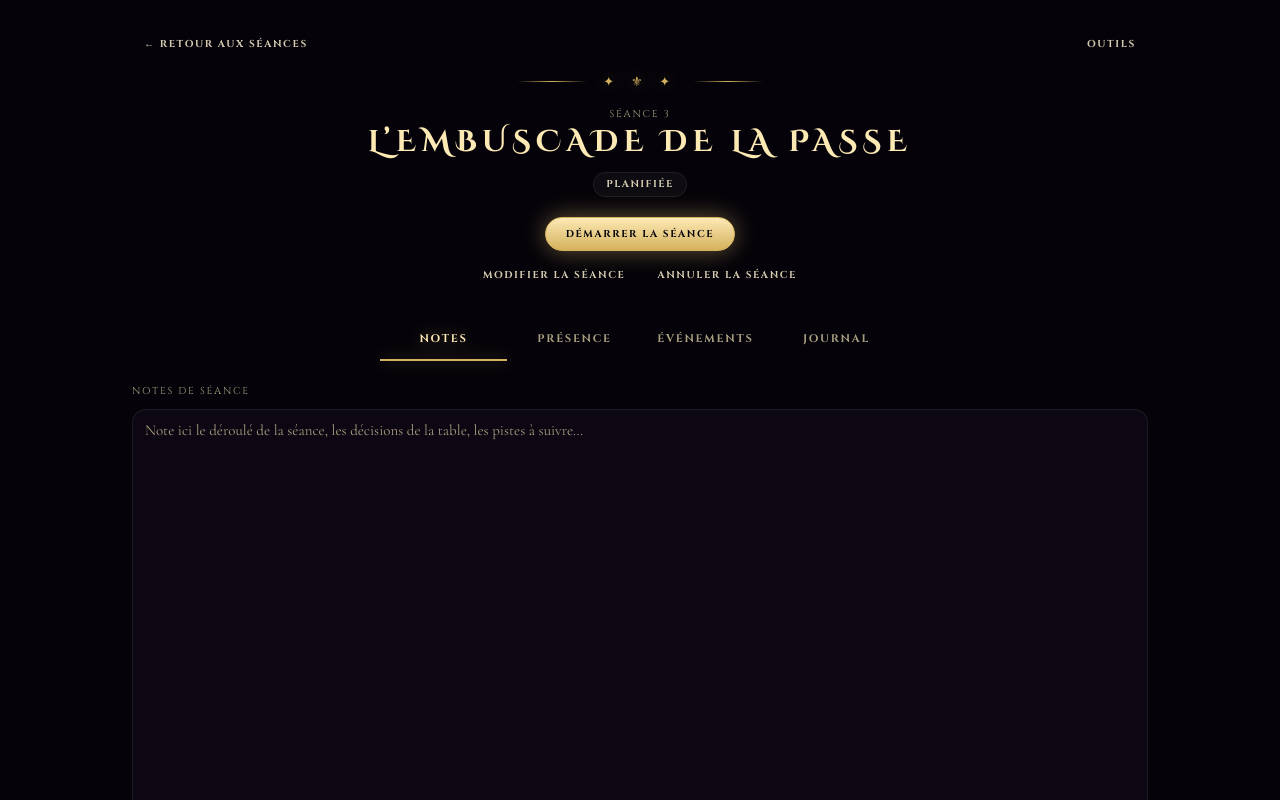
Scenario: <SessionScreen> — en-tête + onglets › onglet Events rend la liste (état vide) + filtres ; Journal son état
This screenshot has width=1280, height=800.
Step 1. Click the tab "Événements" → {"x": 706, "y": 340}, box [642,318,769,361]
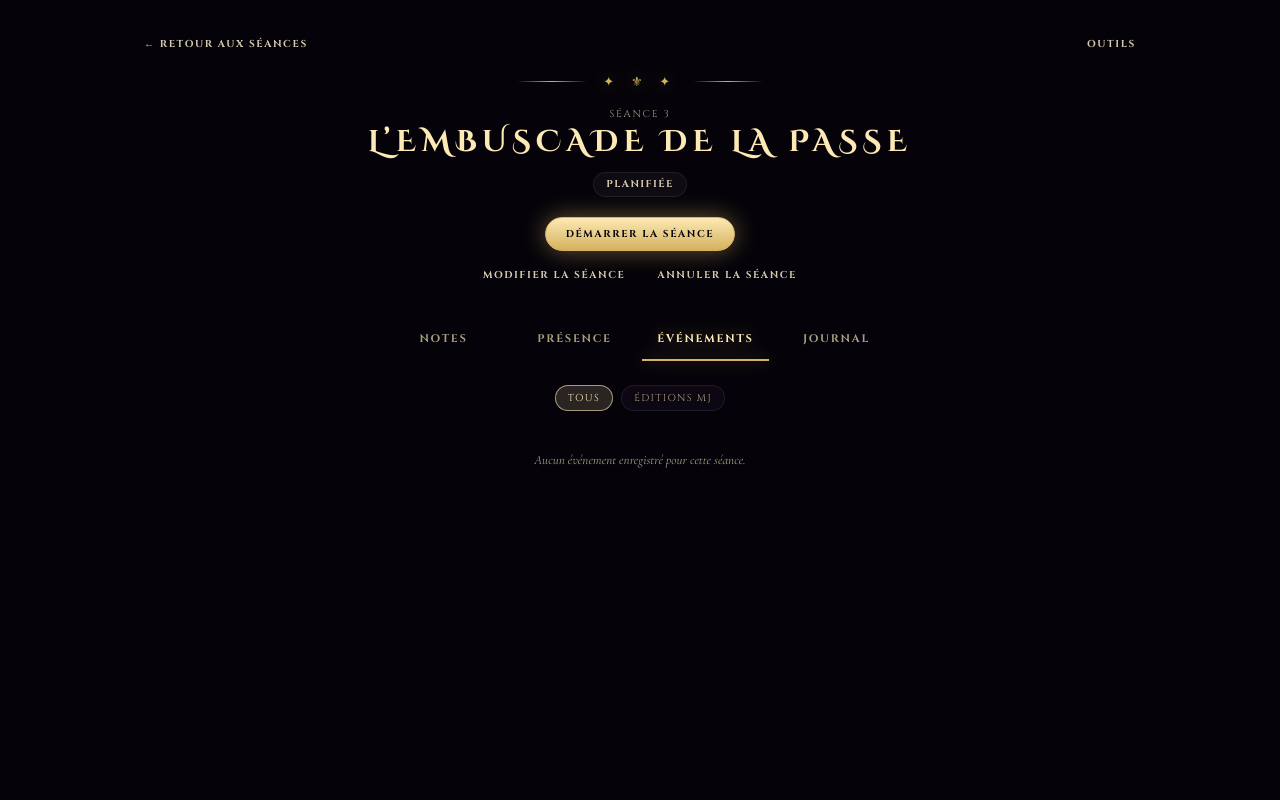
Expected: the text "Aucun événement enregistré pour cette séance." is shown, [534,452,746,468]
Expected: the button "Éditions MJ" is shown, [621,385,725,411]
Step 2. Click the tab "Journal" → {"x": 836, "y": 340}, box [773,318,900,361]
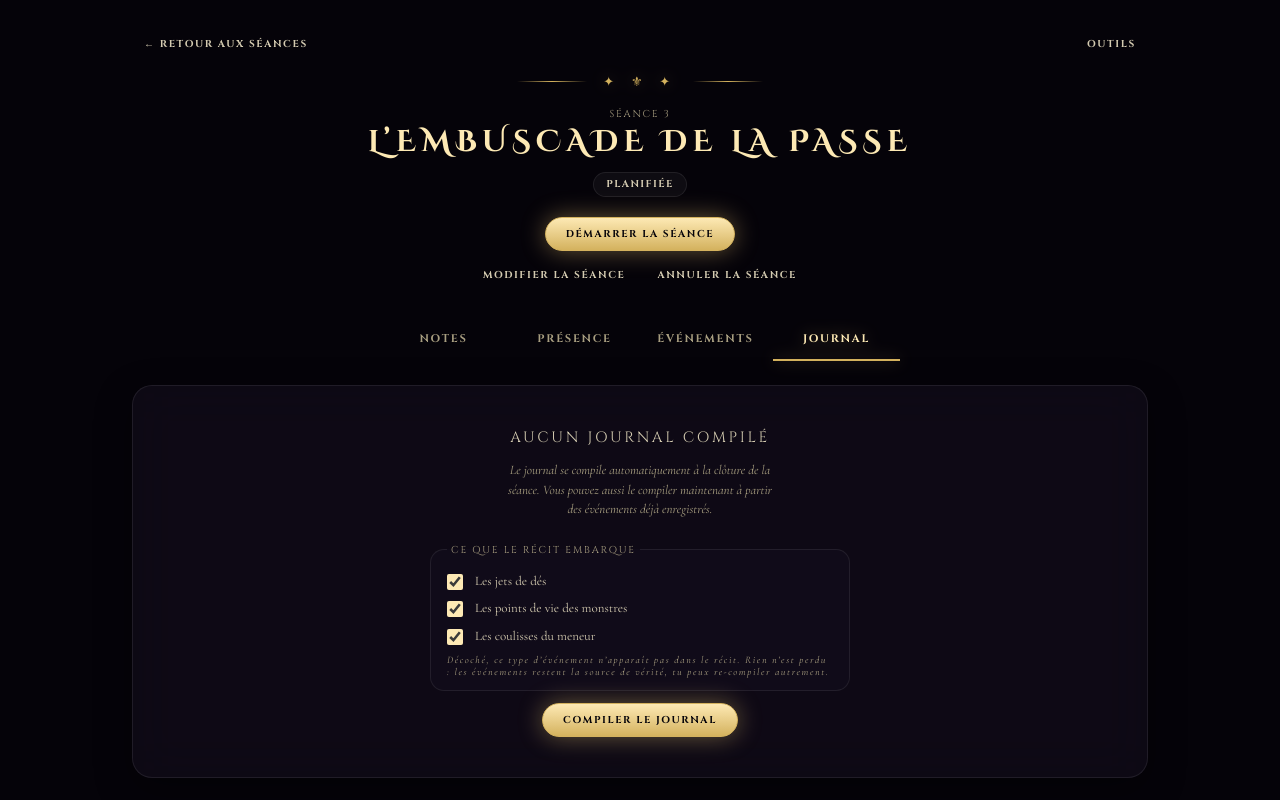
Expected: the heading "Aucun journal compilé" is shown, [510,427,770,448]
